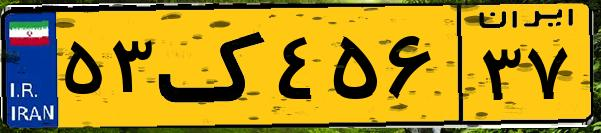3: (475, 38, 525, 113), (110, 28, 158, 98)
4: (270, 28, 330, 110)
5: (330, 28, 385, 110), (57, 26, 110, 100)
6: (385, 28, 445, 110)
7: (525, 38, 570, 115)
ک: (158, 12, 270, 120)
